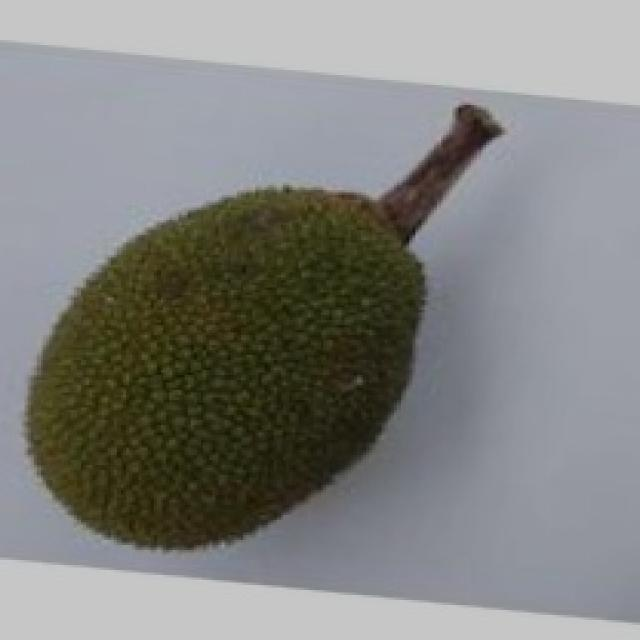Fruit: (0, 167, 446, 575)
